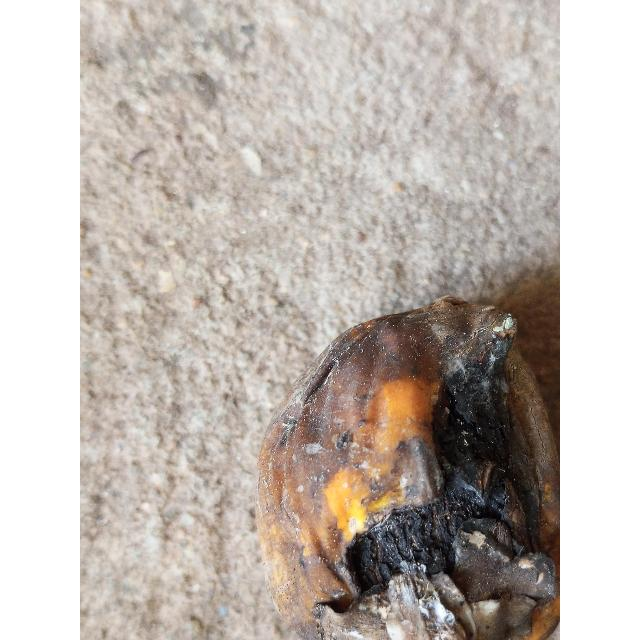damaged: (257, 296, 560, 640)
